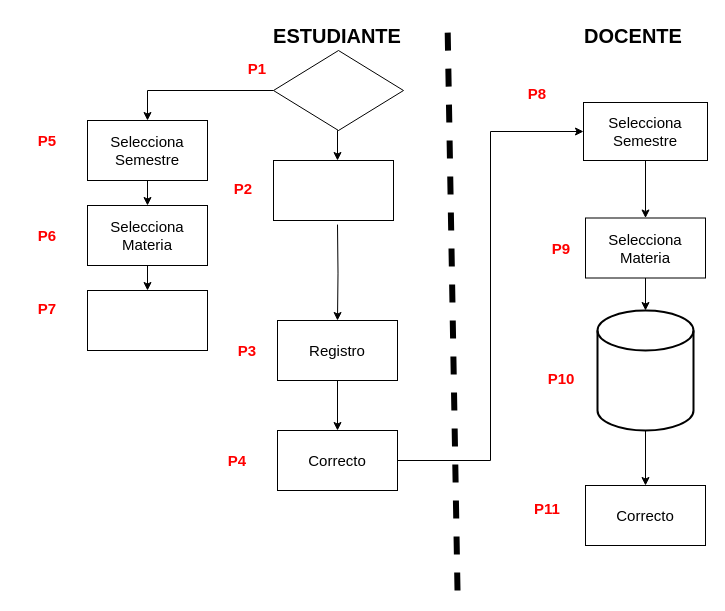
Image size: 725x611. Some labels were removed from this diagram. Each missing label, with the centre of its shape:
"Inscripcion" goes at pixel 333 190.
"Registra Notas" goes at pixel 645 370.
"Selecciona opcion" goes at pixel 338 90.
"Ve su nota" goes at pixel 147 320.
